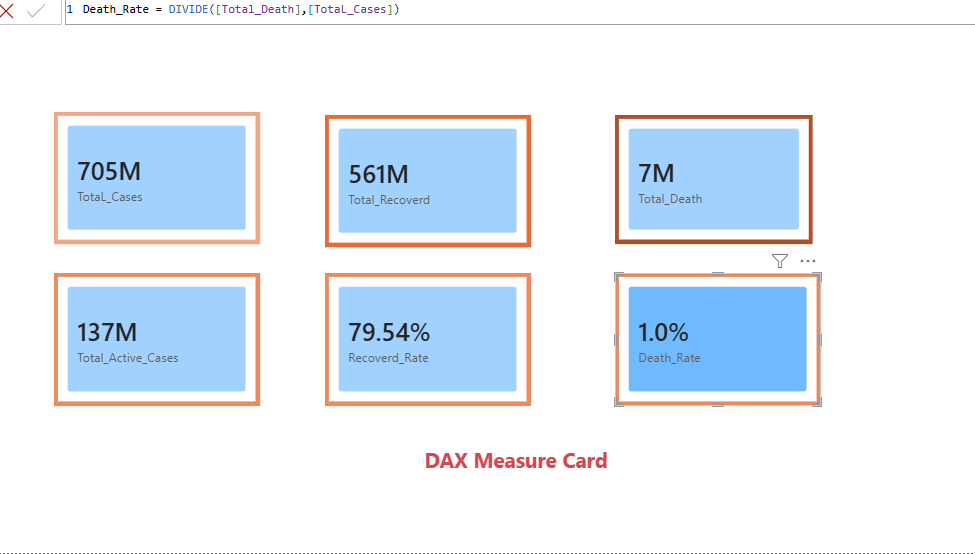

The dashboard page shown, as its layout file describes it:
{"tool":"powerbi","page":{"name":"KPi CARD","canvas":[1280,720],"ordinal":0},"visuals":[{"type":"cardVisual","fields":{"Data":["Covid_19.TotaL_Cases"]},"box":[92.5,152.9,264.7,169.6],"z":0},{"type":"cardVisual","fields":{"Data":["Covid_19.Total_Death"]},"box":[813.5,156.8,254.5,165.8],"z":1},{"type":"cardVisual","fields":{"Data":["Covid_19.Total_Recoverd"]},"box":[440.8,156.8,264.7,169.6],"z":2},{"type":"cardVisual","fields":{"Data":["Covid_19.Total_Active_Cases"]},"box":[92.5,359.8,264.7,170.9],"z":3},{"type":"cardVisual","fields":{"Data":["Covid_19.Recoverd_Percentage"]},"box":[440.8,359.8,264.7,170.9],"z":4},{"type":"cardVisual","fields":{"Data":["Covid_19.Death_Percentage"]},"box":[813.5,359.8,264.7,170.9],"z":5},{"type":"textbox","box":[19.3,577,1260.7,93.8],"z":6}]}

Visuals, with their boxes on the page's 1280x720 design canvas (x1, y1, x2, y2). These are canvas units, not pixel positions in the 975x554 screenshot, which may show the page scaled, cropped or inside an application window:
cardVisual - Covid_19.TotaL_Cases: BBox(92, 153, 357, 322)
cardVisual - Covid_19.Total_Death: BBox(814, 157, 1068, 323)
cardVisual - Covid_19.Total_Recoverd: BBox(441, 157, 706, 326)
cardVisual - Covid_19.Total_Active_Cases: BBox(92, 360, 357, 531)
cardVisual - Covid_19.Recoverd_Percentage: BBox(441, 360, 706, 531)
cardVisual - Covid_19.Death_Percentage: BBox(814, 360, 1078, 531)
textbox: BBox(19, 577, 1280, 671)
